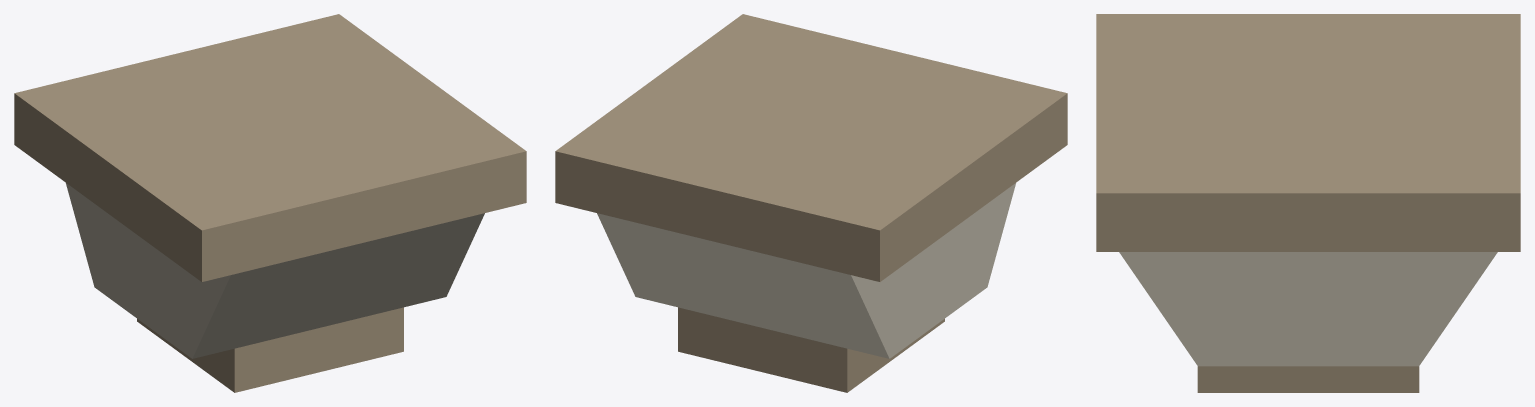
File: Capital__Cushion.fbx
The picture shows the model from 3 angles, left to right: view 1: azimuth 30°, elevation 25°; view 2: azimuth 150°, elevation 25°; view 3: azimuth 270°, elevation 25°; orthographic projection. The views are drawn at different scales.
Parts seen in each view (by area): view 1: Capital__Cushion; view 2: Capital__Cushion; view 3: Capital__Cushion.
Part boxes in pixels (x1=…): Capital__Cushion: x1=14, y1=14, x2=526, y2=392; Capital__Cushion: x1=555, y1=14, x2=1067, y2=392; Capital__Cushion: x1=1096, y1=14, x2=1520, y2=392.
Bounding box in the file's own units: 92 × 58 × 92.
Materials: 1 (1 with a texture image).
